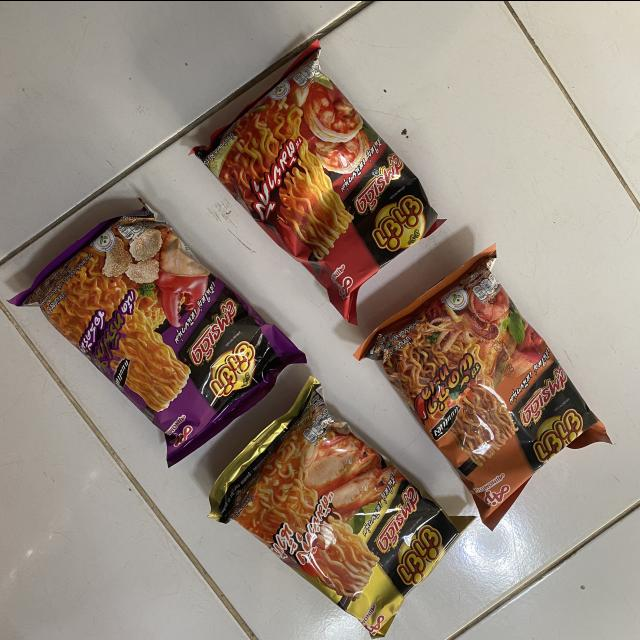plastik: (10, 204, 306, 465), (355, 244, 611, 528), (191, 40, 443, 323), (210, 383, 473, 637)
